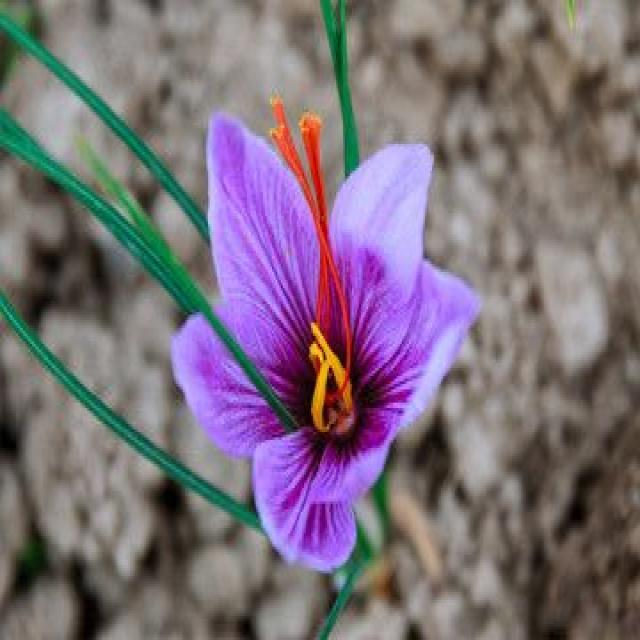Flower: (162, 51, 498, 588)
stigma: (266, 126, 356, 407), (267, 93, 336, 334), (297, 110, 335, 336)
